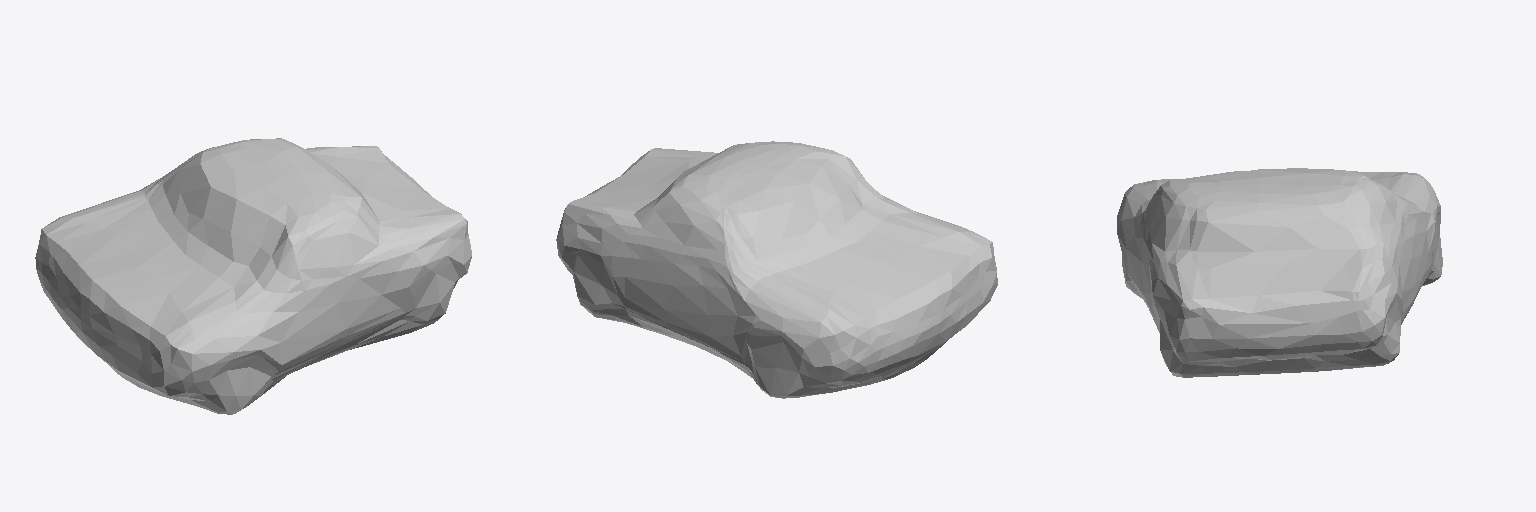
Rendered from video3_145.obj.
The picture shows the model from 3 angles: view 1: azimuth 30°, elevation 25°; view 2: azimuth 150°, elevation 25°; view 3: azimuth 270°, elevation 25°; orthographic projection.
Size of the model in its own units: 1 by 0.454 by 0.814.